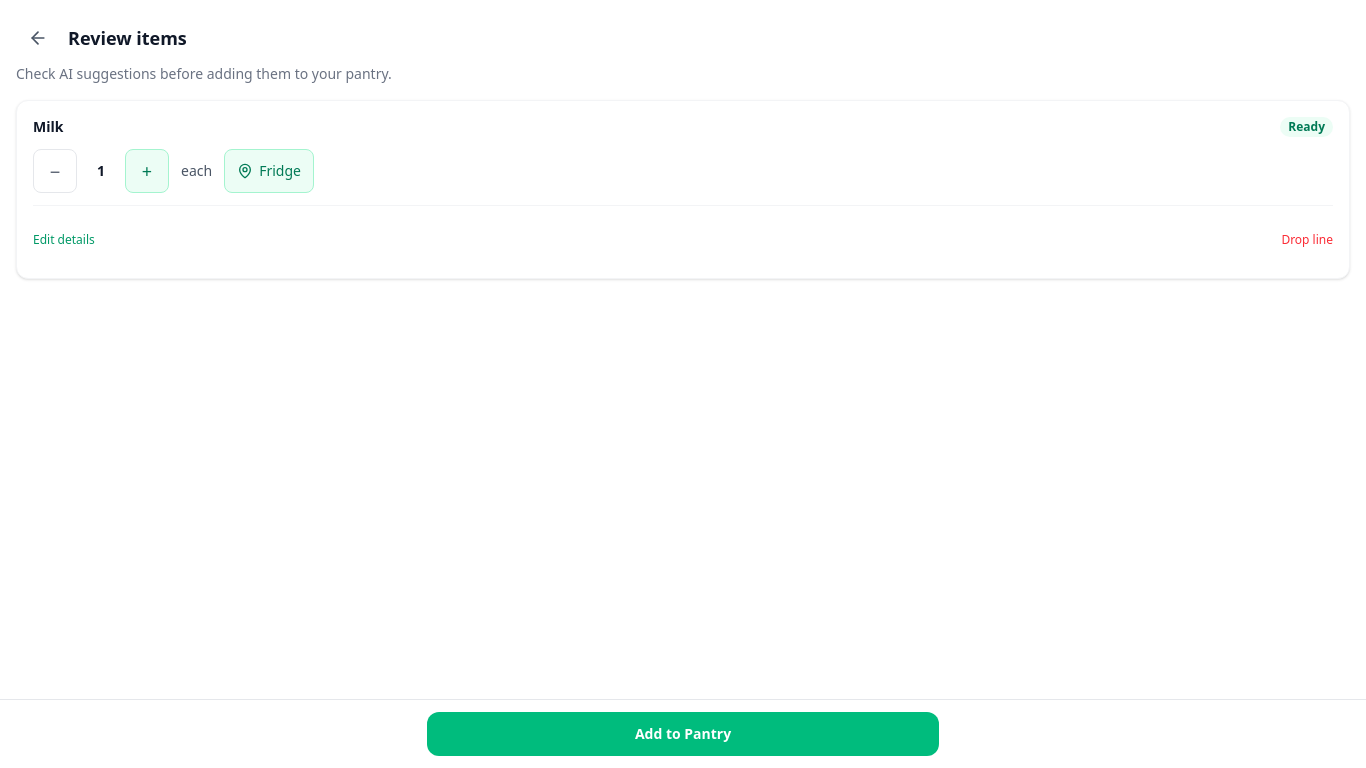
Scenario: BatchReviewScreen › Drop line › shows empty review card after the last line is dropped
What coordinates should you click on to do the following:
click the button "Drop line"
I would click on:
 (1307, 240)
Its box is [1281,218,1333,262].
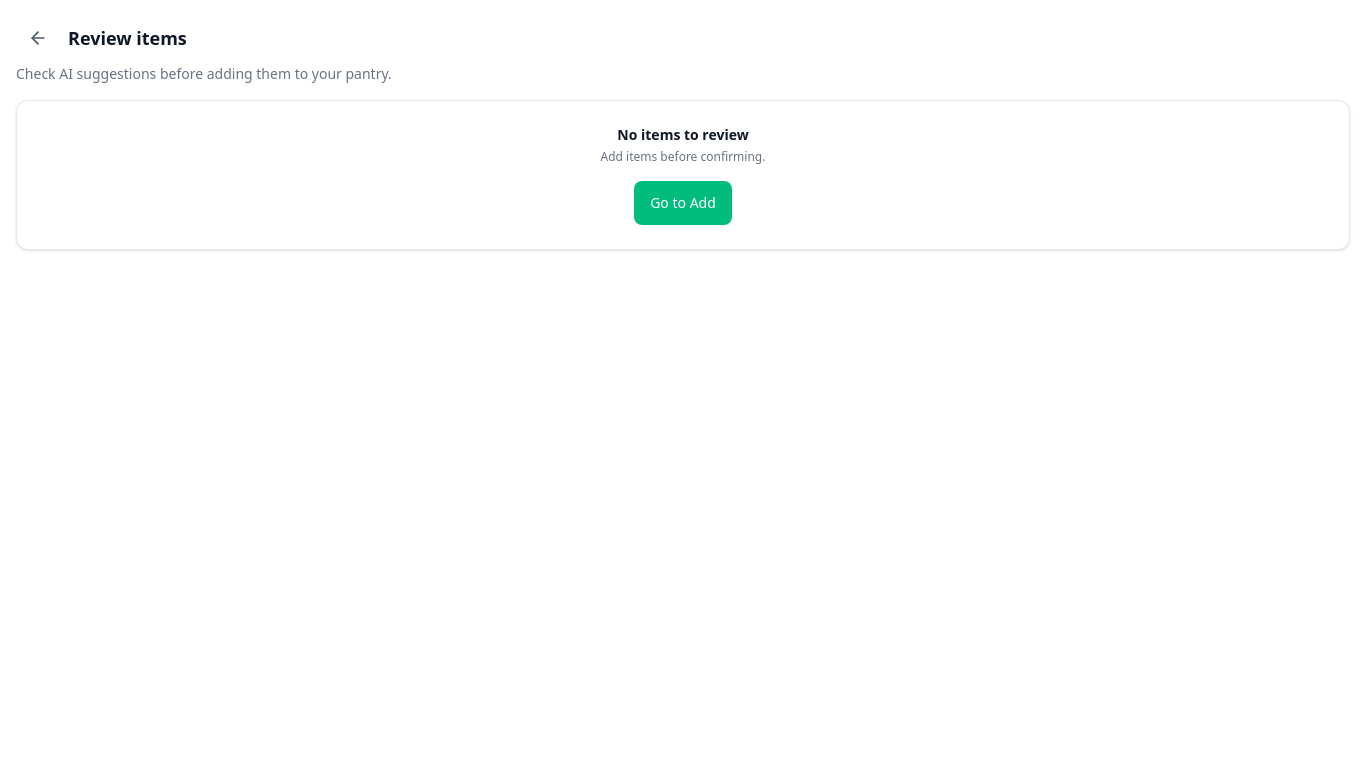
Check: the text "No items to review" is shown, box [617,125,749,144]
Check: the button "Add to Pantry" is gone
